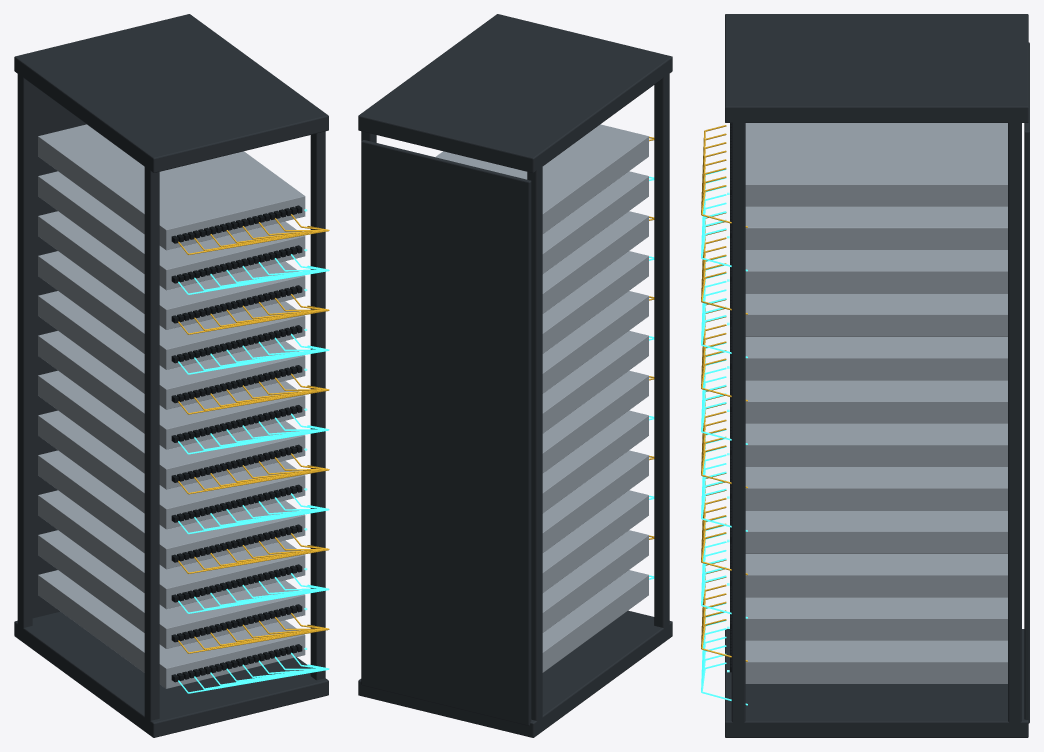
Rendered from Network.glb.
The picture shows the model from 3 angles, left to right: view 1: azimuth 30°, elevation 25°; view 2: azimuth 150°, elevation 25°; view 3: azimuth 270°, elevation 25°; orthographic projection. The views are drawn at different scales.
Parts seen in each view (by area): view 1: Frame, NetworkSwitch_12, NetworkSwitch_05, NetworkSwitch_09, NetworkSwitch_06, NetworkSwitch_01, NetworkSwitch_04, NetworkSwitch_07, NetworkSwitch_08, NetworkSwitch_02, NetworkSwitch_10, NetworkSwitch_03 (+1 smaller); view 2: Frame, NetworkSwitch_12, NetworkSwitch_07, NetworkSwitch_09, NetworkSwitch_11, NetworkSwitch_03, NetworkSwitch_05, NetworkSwitch_01, NetworkSwitch_02, NetworkSwitch_06, NetworkSwitch_08, NetworkSwitch_10 (+1 smaller); view 3: Frame, NetworkSwitch_12, NetworkSwitch_04, NetworkSwitch_09, NetworkSwitch_11, NetworkSwitch_07, NetworkSwitch_02, NetworkSwitch_05, NetworkSwitch_10, NetworkSwitch_01, NetworkSwitch_08, NetworkSwitch_06 (+1 smaller).
Part boxes in pixels (x1,y1,x2,y2): Frame: (14, 14, 328, 737); NetworkSwitch_12: (38, 124, 329, 254); NetworkSwitch_05: (38, 410, 329, 534); NetworkSwitch_09: (38, 251, 329, 374); NetworkSwitch_06: (38, 370, 329, 494); NetworkSwitch_01: (38, 570, 329, 693); NetworkSwitch_04: (38, 450, 329, 573); NetworkSwitch_07: (38, 331, 329, 454); NetworkSwitch_08: (38, 291, 329, 414); NetworkSwitch_02: (38, 530, 329, 653); NetworkSwitch_10: (38, 211, 329, 334); NetworkSwitch_03: (38, 490, 329, 613); Frame: (358, 14, 672, 737); NetworkSwitch_12: (435, 124, 654, 233); NetworkSwitch_07: (542, 330, 654, 433); NetworkSwitch_09: (542, 251, 654, 353); NetworkSwitch_11: (542, 171, 654, 273); NetworkSwitch_03: (542, 490, 654, 592); NetworkSwitch_05: (542, 410, 654, 513); NetworkSwitch_01: (542, 570, 654, 672); NetworkSwitch_02: (542, 530, 654, 632); NetworkSwitch_06: (542, 370, 654, 473); NetworkSwitch_08: (542, 291, 654, 393); NetworkSwitch_10: (542, 211, 654, 313); Frame: (725, 14, 1029, 737); NetworkSwitch_12: (701, 123, 1007, 227); NetworkSwitch_04: (701, 473, 1007, 575); NetworkSwitch_09: (701, 256, 1007, 358); NetworkSwitch_11: (701, 169, 1007, 271); NetworkSwitch_07: (701, 343, 1007, 444); NetworkSwitch_02: (701, 560, 1007, 661); NetworkSwitch_05: (701, 429, 1007, 531); NetworkSwitch_10: (701, 212, 1007, 314); NetworkSwitch_01: (701, 603, 1007, 705); NetworkSwitch_08: (701, 299, 1007, 401); NetworkSwitch_06: (701, 386, 1007, 488).
Bounding box in the file's own units: 0.72 × 2.27 × 1.07.
